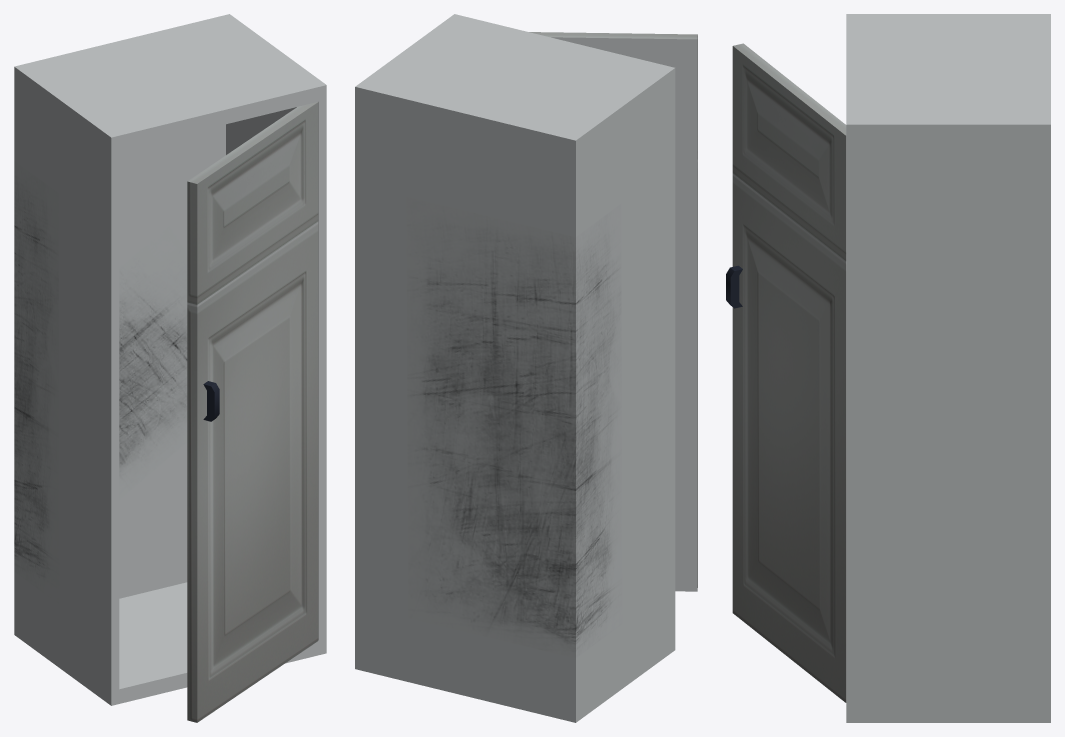
Rendered from locker1.fbx.
The picture shows the model from 3 angles, left to right: view 1: azimuth 30°, elevation 25°; view 2: azimuth 150°, elevation 25°; view 3: azimuth 270°, elevation 25°; orthographic projection. The views are drawn at different scales.
Parts seen in each view (by area): view 1: locker1:polySurface3; view 2: locker1:polySurface3; view 3: locker1:polySurface3.
Boxes of the visible parts, left/top/right/bottom form: locker1:polySurface3: left=14, top=14, right=326, bottom=722; locker1:polySurface3: left=355, top=14, right=697, bottom=722; locker1:polySurface3: left=726, top=14, right=1050, bottom=722.
Size of the model in its own units: 232 by 584 by 287.
Materials: 1 (1 with a texture image).
